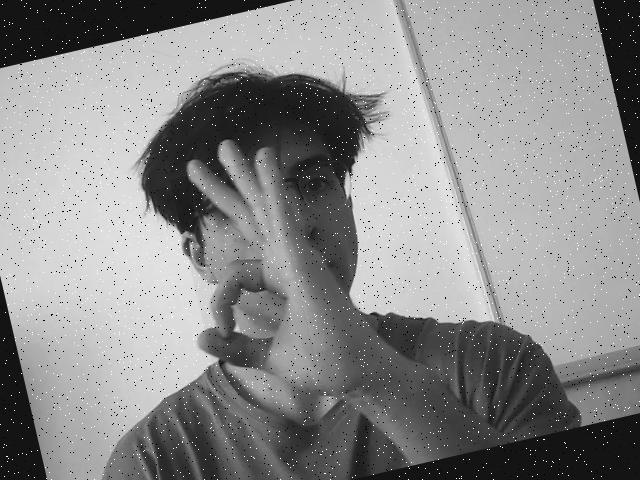OK: (170, 156, 318, 388)
